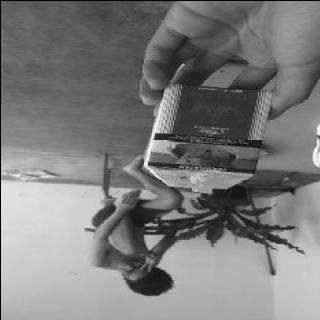objects: (142, 83, 270, 175)
